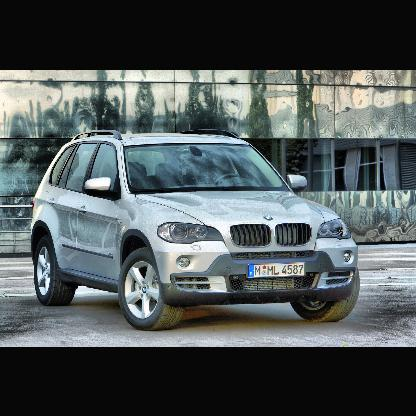BMW X5 SUV 2007: (23, 116, 371, 341)
